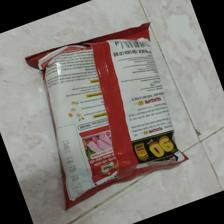Kokomi: (24, 21, 189, 212)
